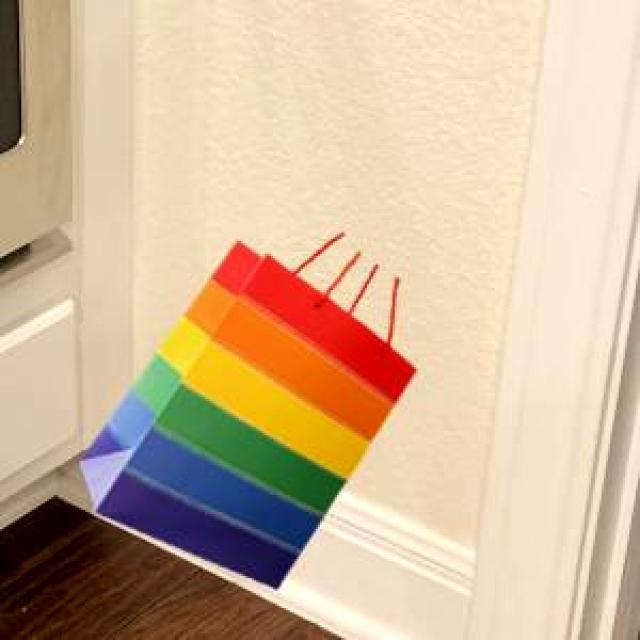Paper_Bag: (78, 238, 413, 586)
